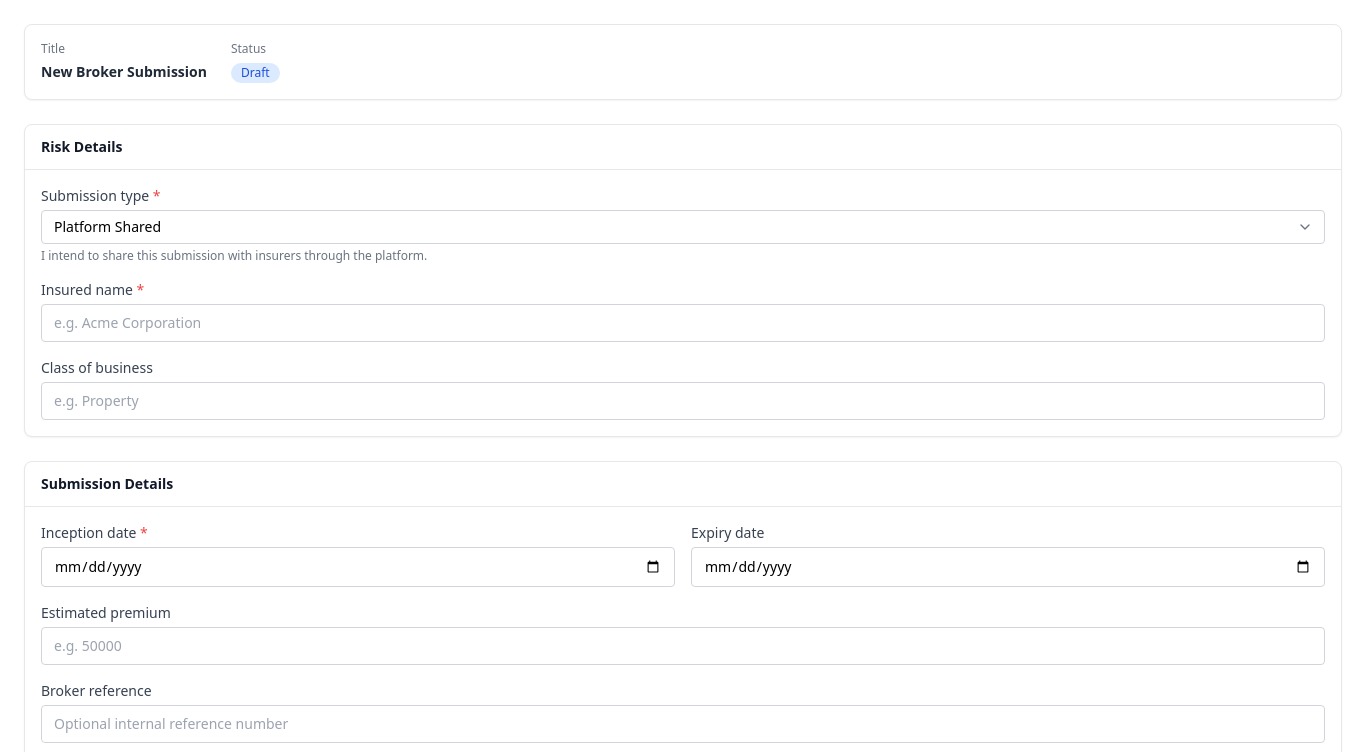
Test: REQ-PSS-BRK-NEW-F-007/008 — Required field validation › T-PSS-BRK-NEW-F008: shows a validation error and does not submit when inception date is empty
The width and height of the screenshot is (1366, 752).
In the field labelled "Insured name *": (683, 323) [41,304,1325,342], type "Test Co"
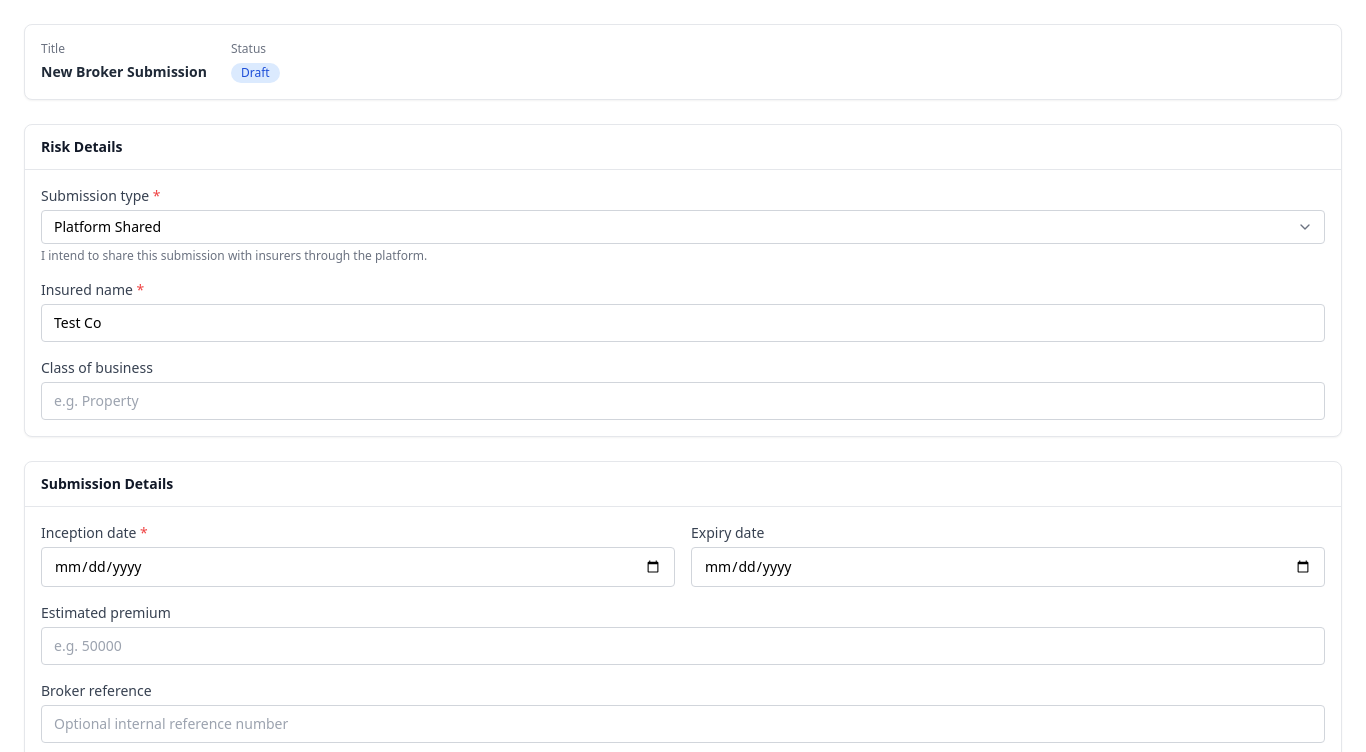
Clear the field labelled "Submission type *": (683, 227) [41,210,1325,244]
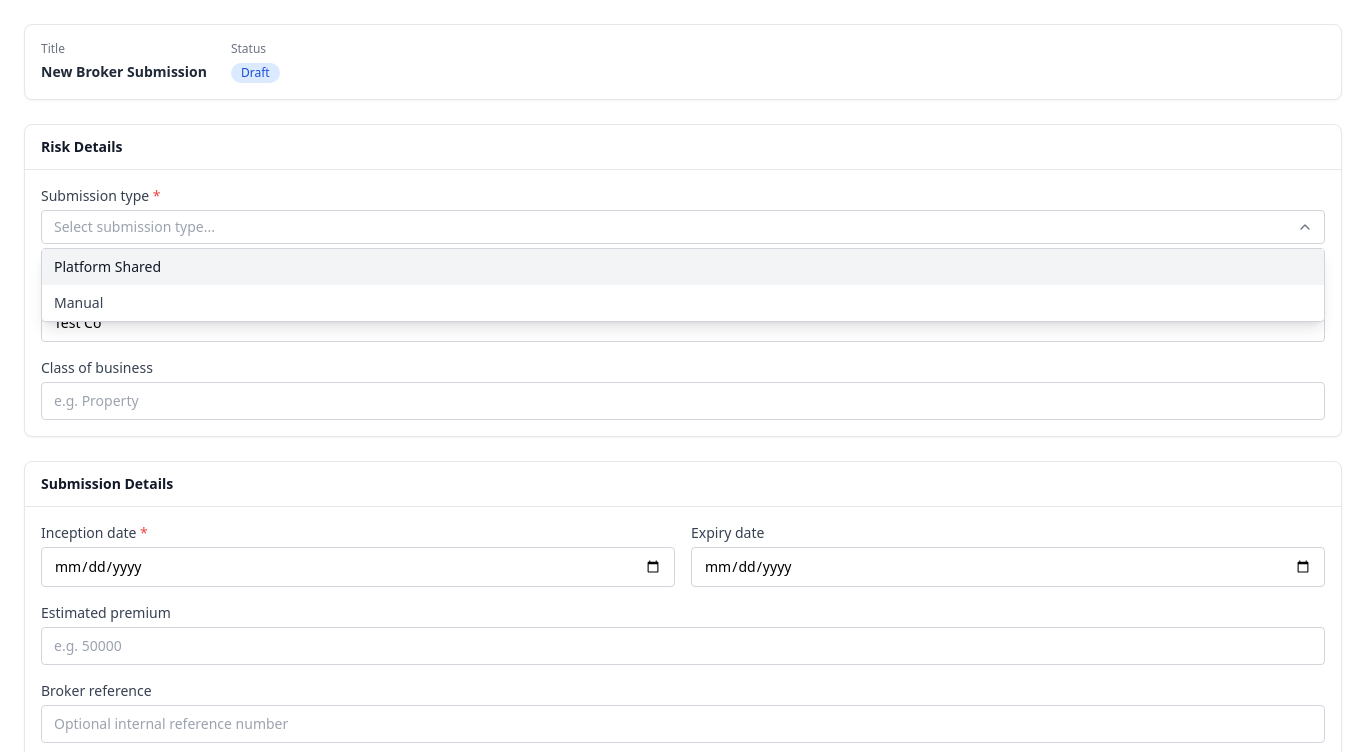
Click the button "Manual": (79, 302) [42,285,1324,321]
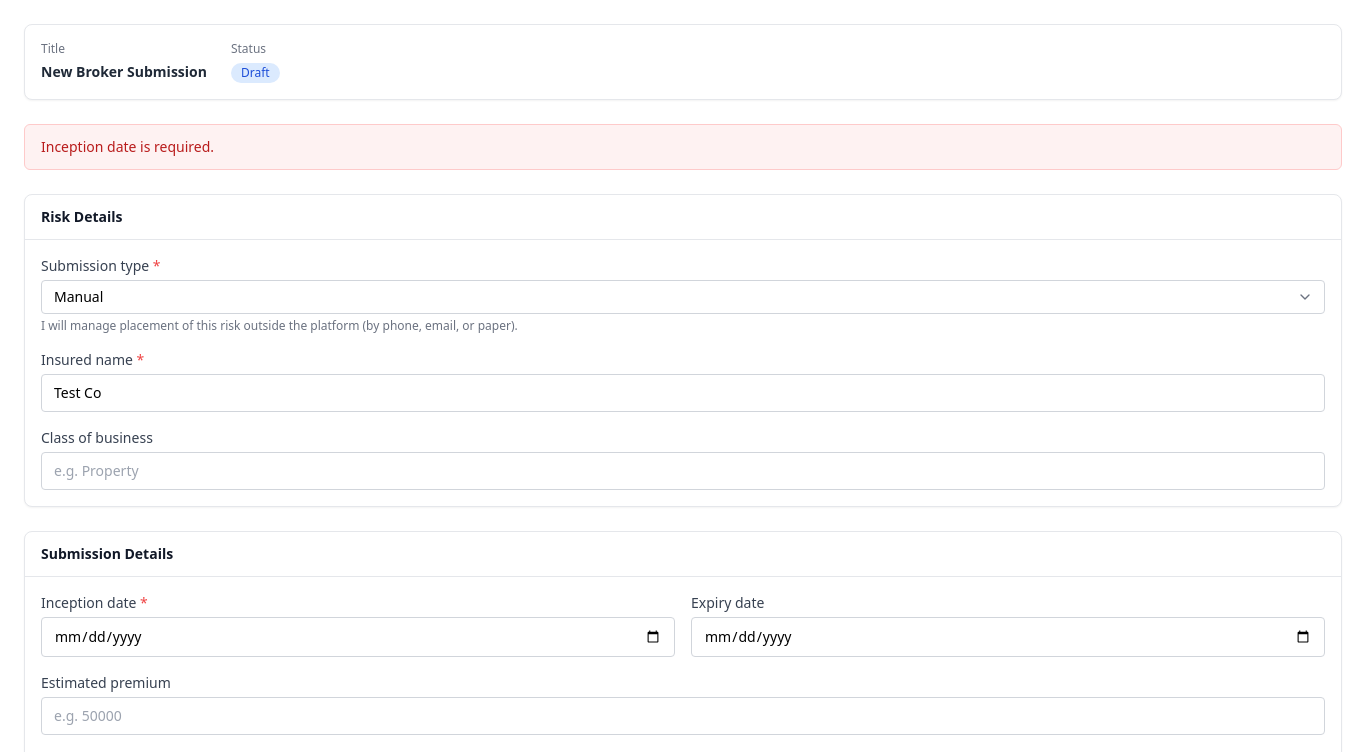
Expected: the message "Inception date is required." is shown, [24,124,1342,170]
